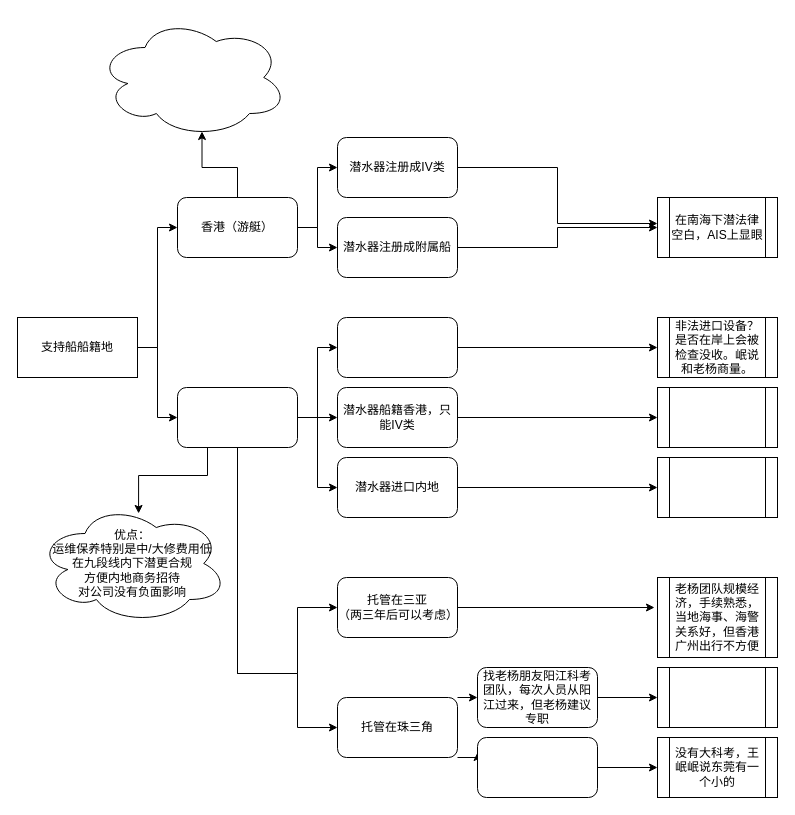
This 795x815 diagram has some shape labels left out. Each missing label, with the centre of its shape:
"优点： 手续简单、政府管理透明、 出入境容易、托管成熟" goes at pixel 192 77.
"内地(科考船)" goes at pixel 237 417.
"带外籍潜水器进领海手续需探讨" goes at pixel 717 417.
"找珠三角本地科考公司或游艇会" goes at pixel 537 767.
"深圳大鹏湾锚泊地，停泊时的管理待探讨" goes at pixel 717 697.
"潜水器不注册船籍，在香港搭载上，作为科考设备" goes at pixel 397 347.
"潜水器入境的法律手续和税费 合同没有明文限" goes at pixel 717 487.
